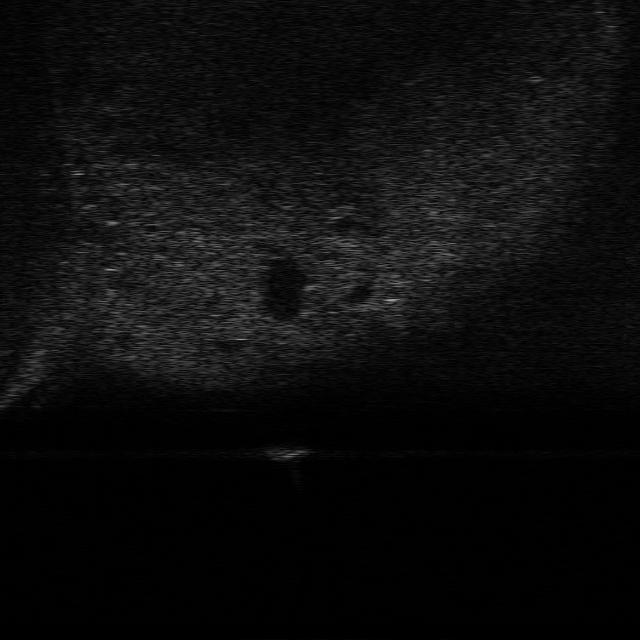cube: (262, 441, 312, 465)
